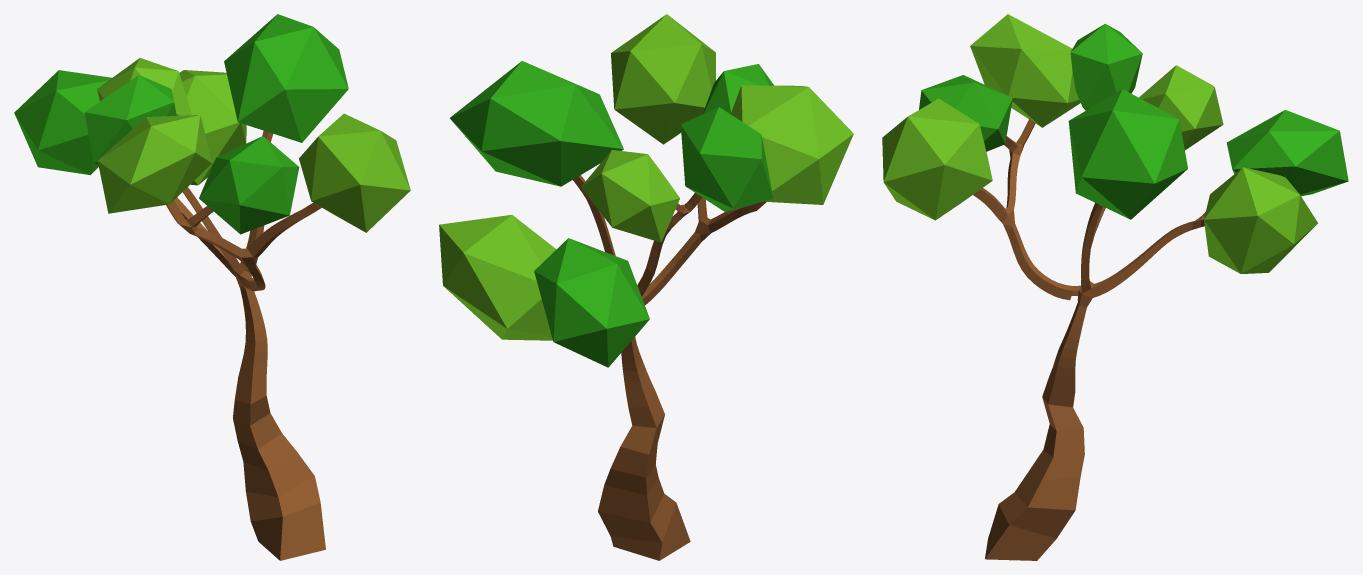
Rendered from Tree 2.4.fbx.
3 views of the same model, side by side, from view 1: azimuth 30°, elevation 25°; view 2: azimuth 150°, elevation 25°; view 3: azimuth 270°, elevation 25° (orthographic). The views are drawn at different scales.
Visible parts, largest first — view 1: Cube; view 2: Cube; view 3: Cube.
Part boxes in pixels (x1,y1,x2,y2): Cube: [14, 14, 410, 560]; Cube: [439, 14, 853, 560]; Cube: [882, 14, 1348, 560].
Bounding box in the file's own units: 192 × 293 × 261.
